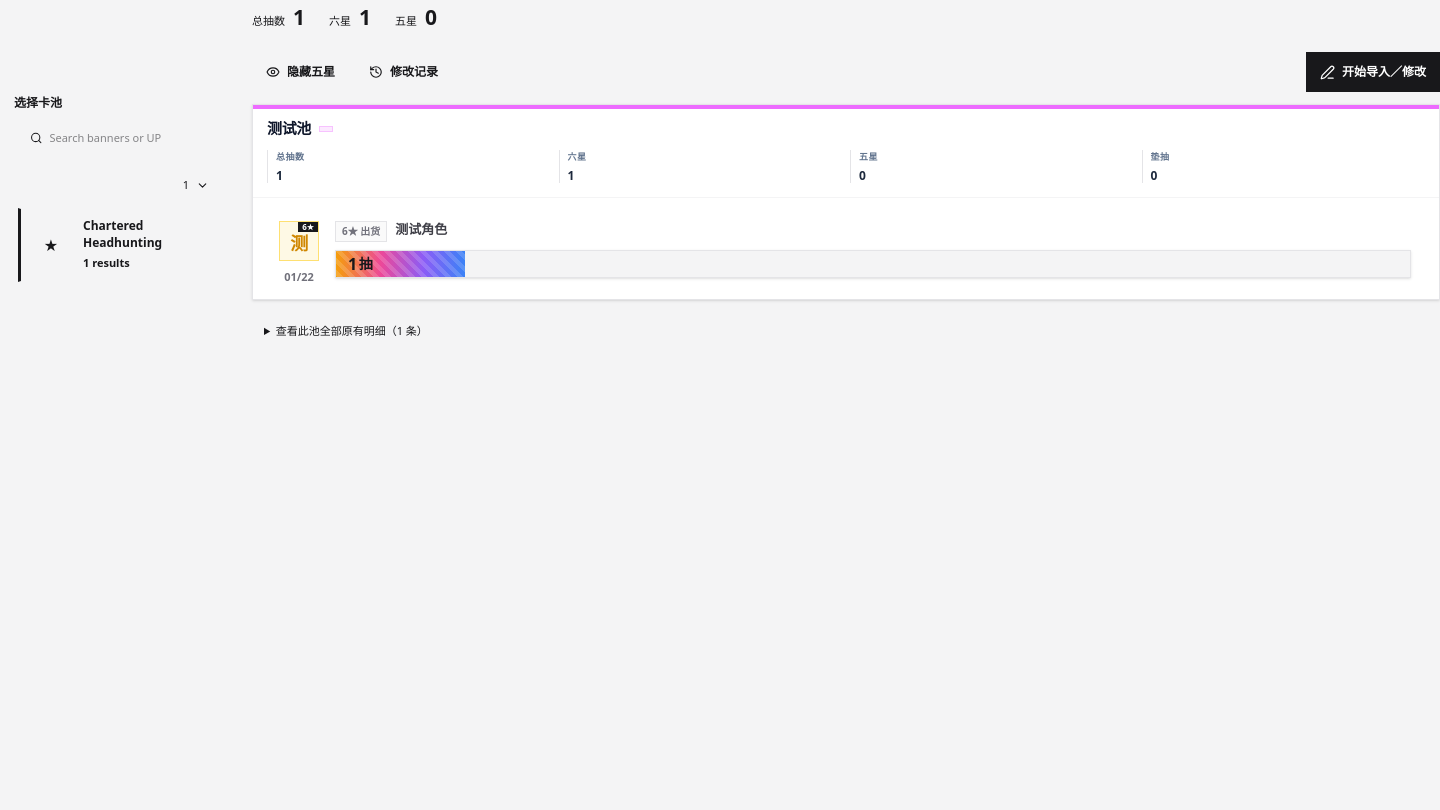
Test: workbench account workspace › edits an official history row on the same page and stages its versioned change without a write
Expected: the button "开始导入／修改" is enabled, [1306,52,1439,92]
Click the button named "编辑内容": (846, 253) [275,220,1417,285]
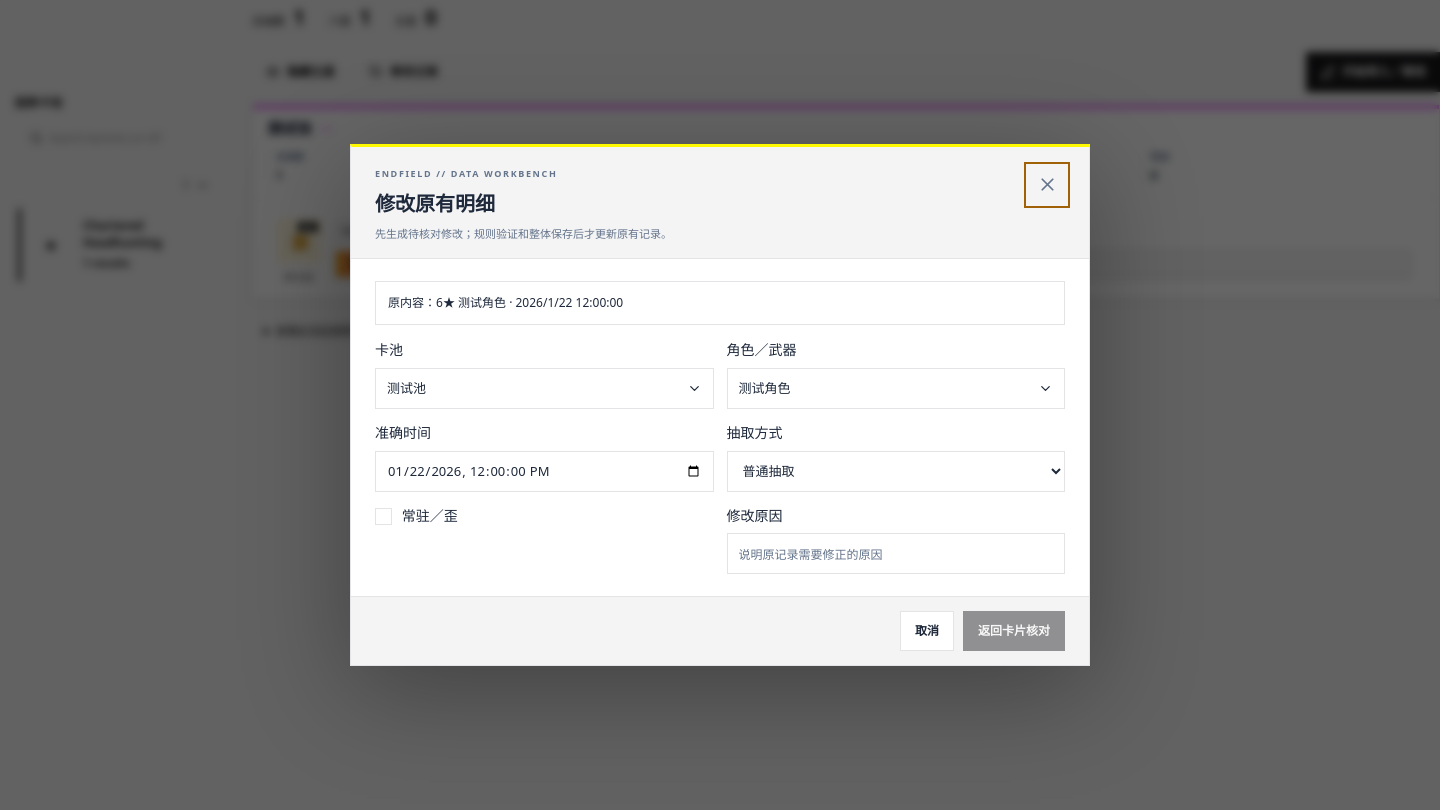
Expected: the button "返回卡片核对" is disabled, [963,611,1065,651]
Click the dropdown named "角色／武器": (765, 388) [726,368,1065,409]
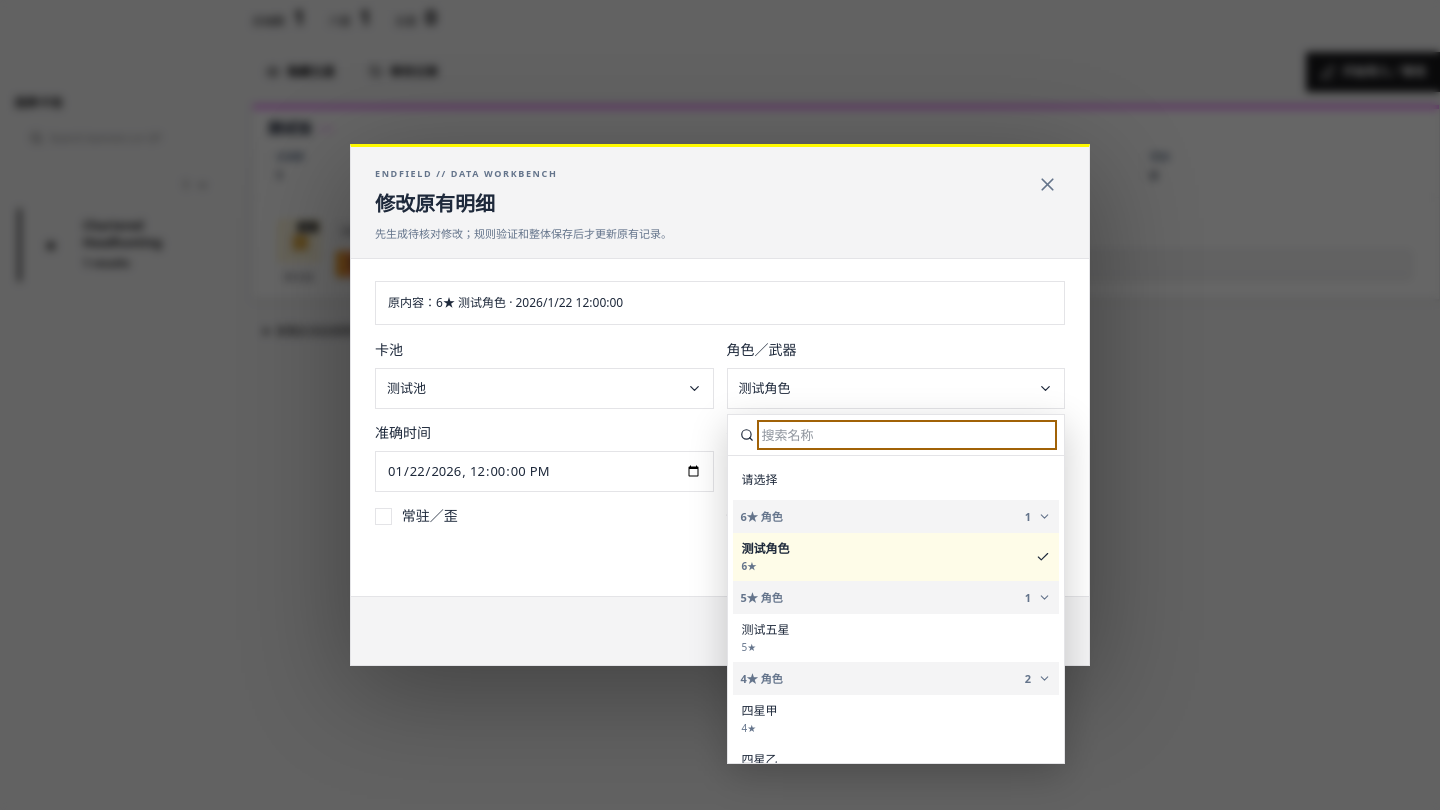
Click the option "测试五星 5★": (766, 630) [732,614,1059,662]
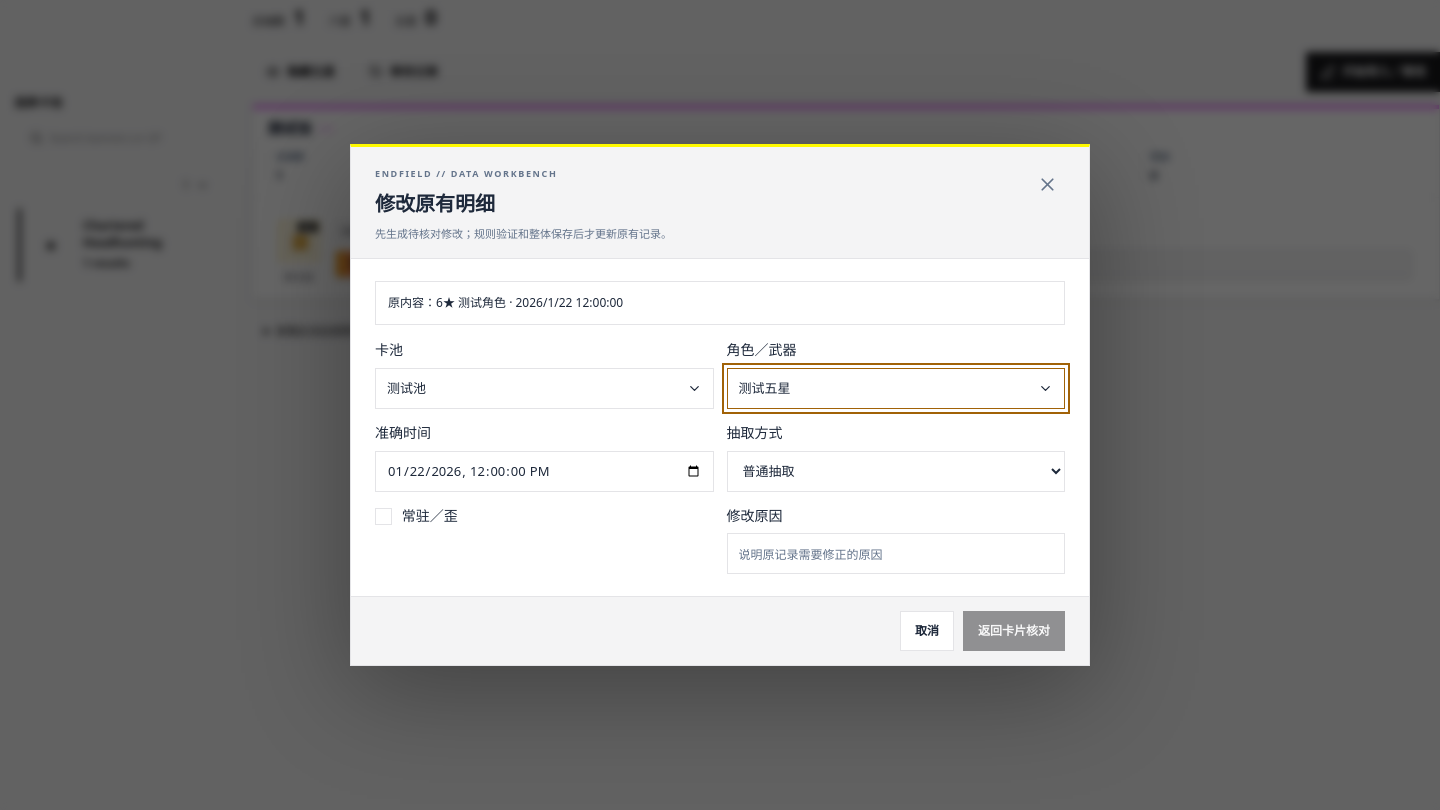
In the field labelled "修改原因": (896, 554) [726,533,1065,574], type "星级核对"
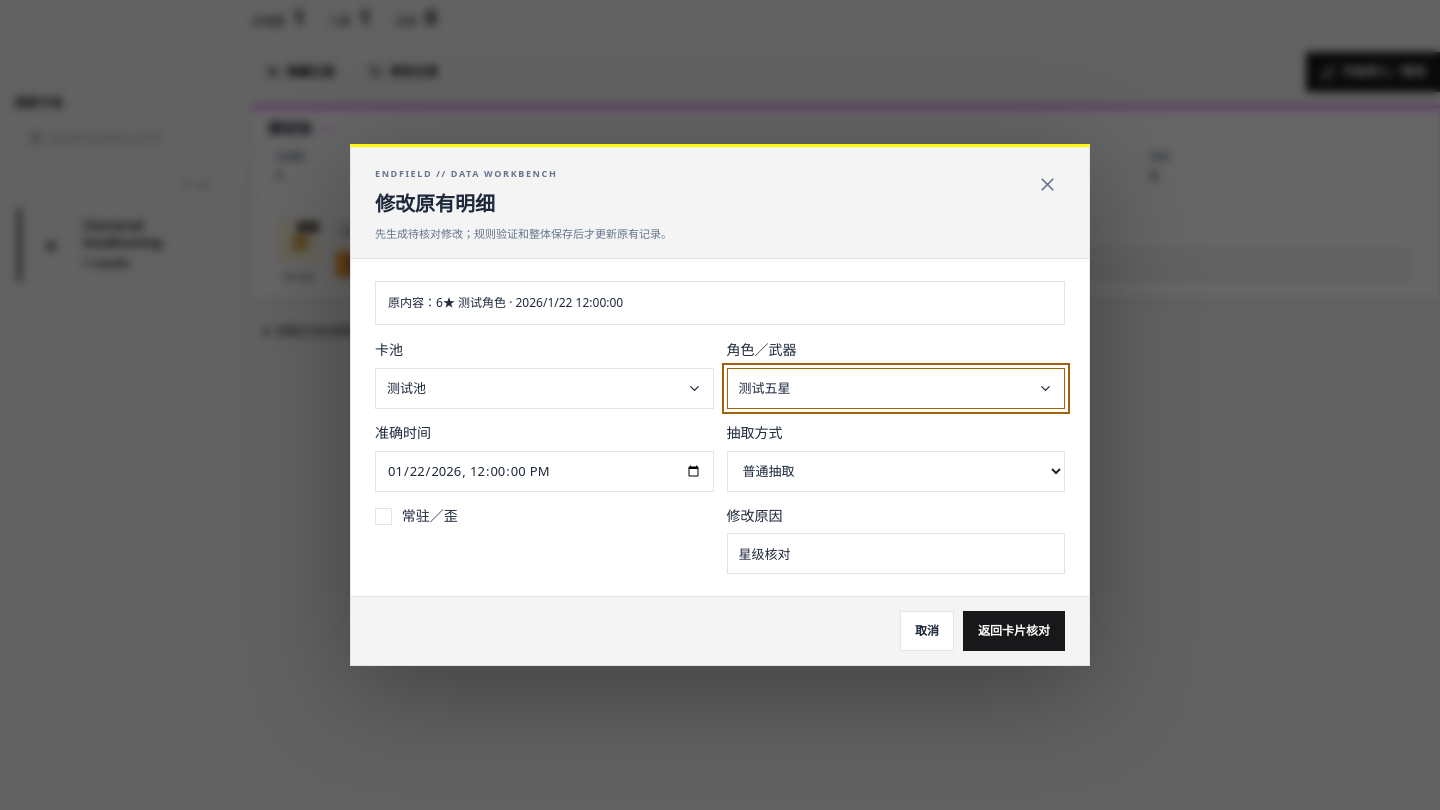
Click the button "返回卡片核对": (1014, 631) [963,611,1065,651]
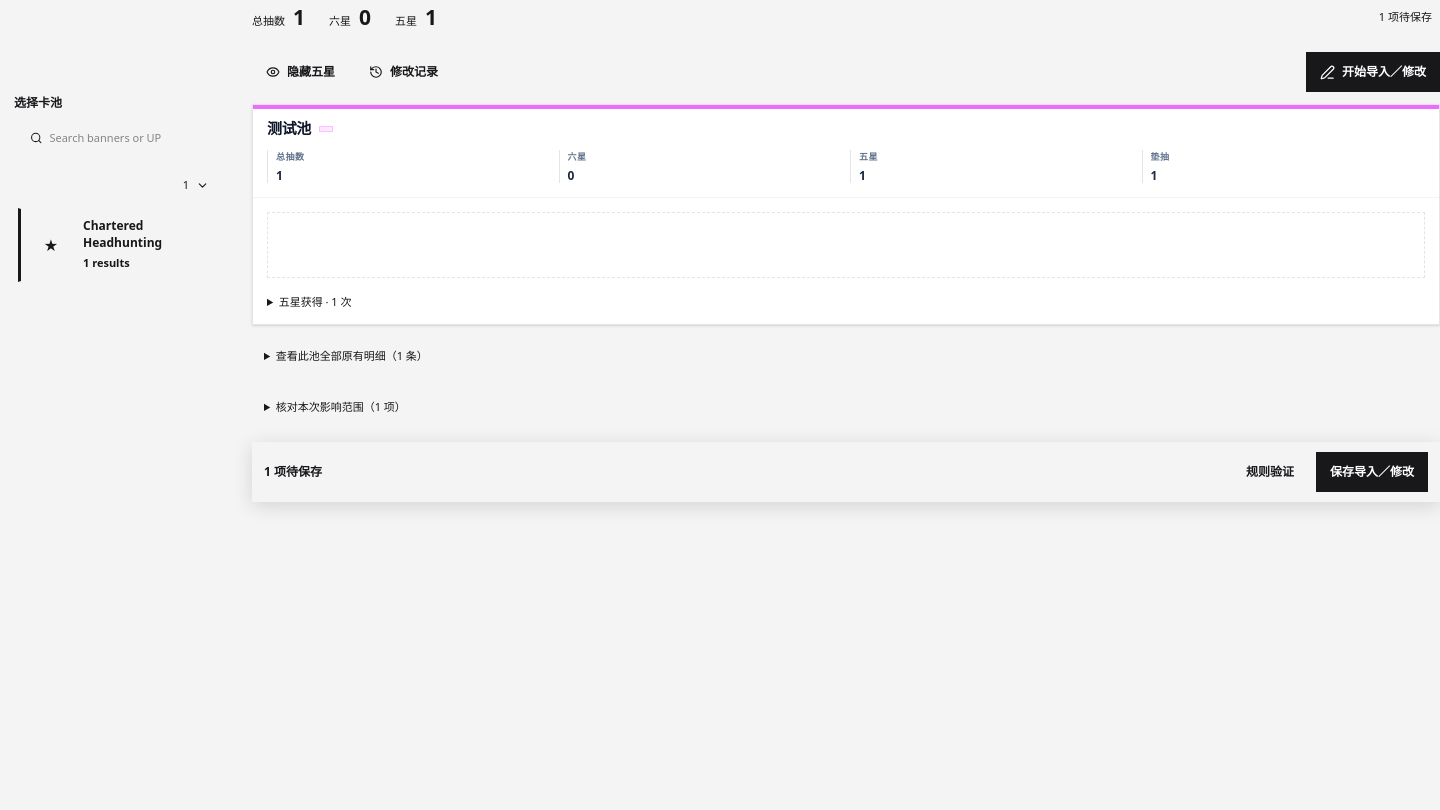
Expected: the dialog is gone
